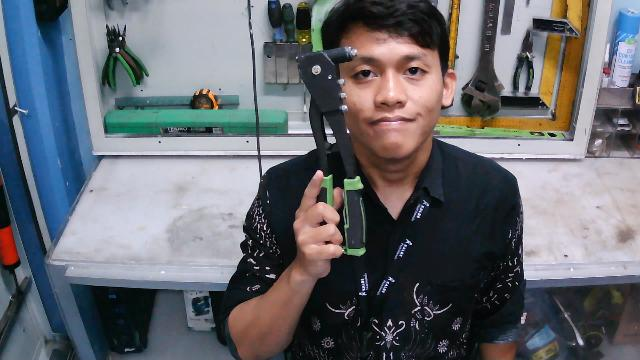tang_rivet: (293, 43, 367, 257)
